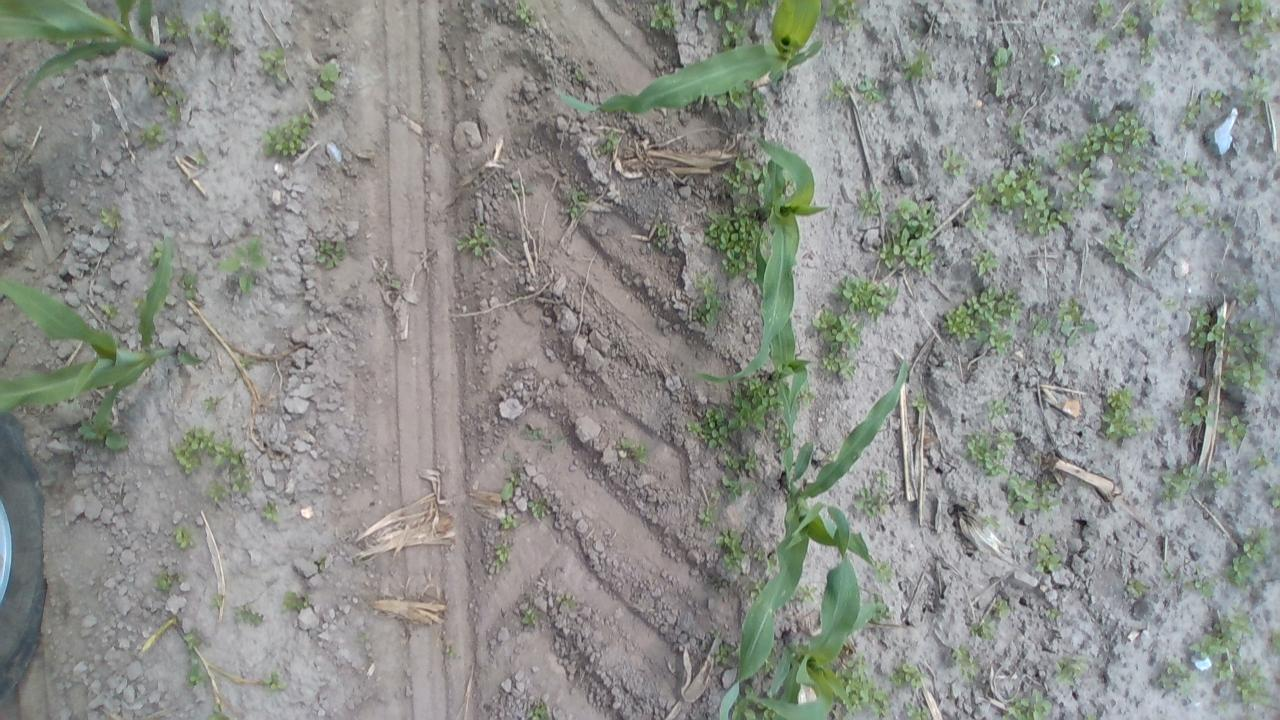Maize: (714, 357, 910, 720), (0, 240, 203, 428), (699, 132, 828, 386), (550, 2, 828, 113), (750, 502, 890, 716), (1, 0, 183, 99), (746, 226, 812, 492), (136, 616, 228, 718)
Weeds: (988, 164, 1094, 236), (704, 216, 758, 284), (1188, 612, 1255, 664), (210, 235, 269, 290), (1221, 334, 1268, 392), (220, 238, 266, 293), (212, 439, 254, 497), (840, 280, 904, 318), (1228, 534, 1272, 586), (257, 114, 310, 156), (979, 273, 1024, 322), (968, 433, 1018, 475), (1234, 1, 1278, 47), (846, 668, 894, 710), (1004, 479, 1058, 514), (1174, 196, 1230, 229), (1057, 302, 1100, 344), (1234, 658, 1272, 702), (1004, 688, 1055, 720), (1053, 135, 1100, 168), (902, 236, 938, 278), (878, 210, 902, 268), (1110, 180, 1142, 223), (78, 421, 128, 448), (900, 197, 935, 234), (183, 426, 226, 456), (966, 190, 992, 236), (1100, 414, 1154, 436), (1032, 534, 1062, 573), (1177, 397, 1216, 426), (943, 306, 978, 338), (729, 404, 768, 432), (834, 320, 866, 354), (1162, 654, 1194, 688), (1238, 72, 1268, 108), (648, 4, 684, 34), (826, 0, 859, 32), (456, 227, 490, 258), (1246, 318, 1274, 355), (893, 662, 924, 694), (314, 64, 338, 105), (1225, 276, 1257, 306), (203, 12, 230, 47), (942, 142, 969, 176), (858, 188, 883, 224), (174, 442, 202, 474), (1105, 388, 1135, 417), (1107, 233, 1137, 261), (1026, 304, 1056, 332), (984, 326, 1014, 354), (1128, 127, 1158, 155), (852, 487, 885, 512), (690, 294, 719, 322), (903, 56, 933, 82), (618, 435, 648, 461), (872, 593, 896, 624), (1064, 169, 1096, 192), (317, 237, 343, 265), (1091, 124, 1116, 153), (1160, 476, 1190, 500), (1217, 415, 1247, 439), (722, 20, 748, 47), (704, 1, 739, 21), (729, 385, 755, 411), (1042, 41, 1064, 71), (704, 400, 730, 425), (282, 590, 308, 615), (720, 474, 744, 501), (558, 189, 582, 216), (1189, 0, 1217, 23), (236, 606, 264, 629), (1208, 315, 1228, 347), (902, 701, 935, 720), (751, 380, 775, 406), (164, 94, 188, 120), (259, 49, 285, 72), (720, 171, 747, 193), (979, 246, 997, 278), (1116, 150, 1140, 174), (164, 14, 188, 38), (1056, 652, 1092, 668), (652, 210, 672, 238), (991, 48, 1014, 72), (794, 582, 819, 603), (735, 158, 760, 179), (1114, 112, 1136, 135), (732, 198, 756, 219), (198, 392, 219, 416), (714, 528, 739, 548), (207, 479, 227, 504), (1092, 0, 1110, 27), (1186, 328, 1208, 350), (142, 123, 164, 145), (1152, 160, 1175, 181), (1190, 307, 1212, 328), (859, 81, 881, 102), (953, 648, 976, 668), (711, 638, 730, 662), (992, 74, 1008, 102), (708, 422, 725, 448), (526, 501, 552, 518), (772, 417, 786, 448), (825, 80, 846, 100), (688, 421, 709, 441), (871, 468, 891, 489), (1146, 0, 1172, 16), (970, 620, 996, 636), (1179, 105, 1202, 123), (1042, 607, 1066, 624), (1180, 160, 1200, 180), (1140, 31, 1156, 56), (102, 204, 122, 224), (264, 672, 284, 692), (1181, 466, 1200, 487), (1060, 64, 1078, 86), (876, 560, 894, 582), (813, 314, 837, 330), (1268, 630, 1280, 662), (823, 350, 841, 371), (723, 545, 741, 566), (693, 278, 716, 294), (516, 428, 544, 441), (1139, 80, 1159, 98), (260, 502, 280, 520), (154, 573, 172, 593), (1194, 578, 1214, 596), (1206, 91, 1225, 109), (530, 701, 548, 720), (991, 598, 1010, 616), (1214, 698, 1234, 715), (516, 4, 533, 24), (981, 514, 1002, 530), (596, 126, 612, 147), (909, 397, 929, 413), (723, 452, 743, 468), (178, 528, 194, 548), (1126, 576, 1142, 596), (1208, 472, 1230, 486), (1214, 663, 1232, 680), (1095, 34, 1112, 52), (749, 570, 764, 590), (1110, 131, 1123, 154), (746, 447, 759, 470), (698, 507, 716, 523), (503, 478, 515, 502), (1252, 456, 1270, 472), (1269, 486, 1280, 512), (990, 400, 1009, 415), (1126, 12, 1140, 32), (746, 92, 766, 106), (522, 605, 536, 625), (502, 514, 522, 528), (100, 301, 120, 315), (716, 98, 730, 116), (1051, 346, 1063, 366), (966, 294, 978, 314), (846, 656, 868, 666), (558, 593, 576, 604), (756, 546, 766, 562), (495, 544, 508, 556)
